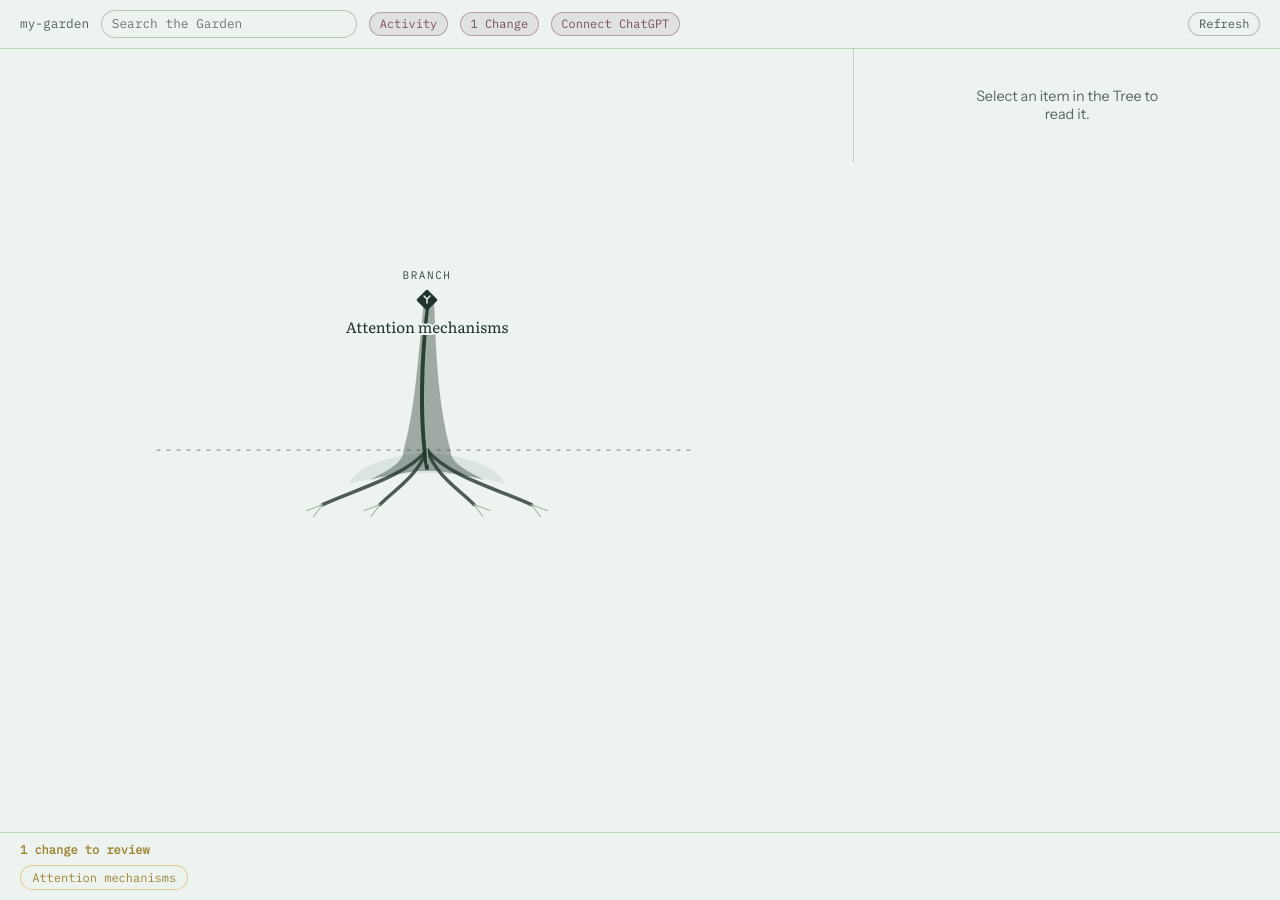
Test: approving a change › lands on the applied item with Undo available, and Undo actually restores the previous file
Expected: the element named "change tray" is shown, x1=0 y1=832 x2=1279 y2=899
Click the button "Attention mechanisms" at (104, 878), box x1=20 y1=865 x2=188 y2=890
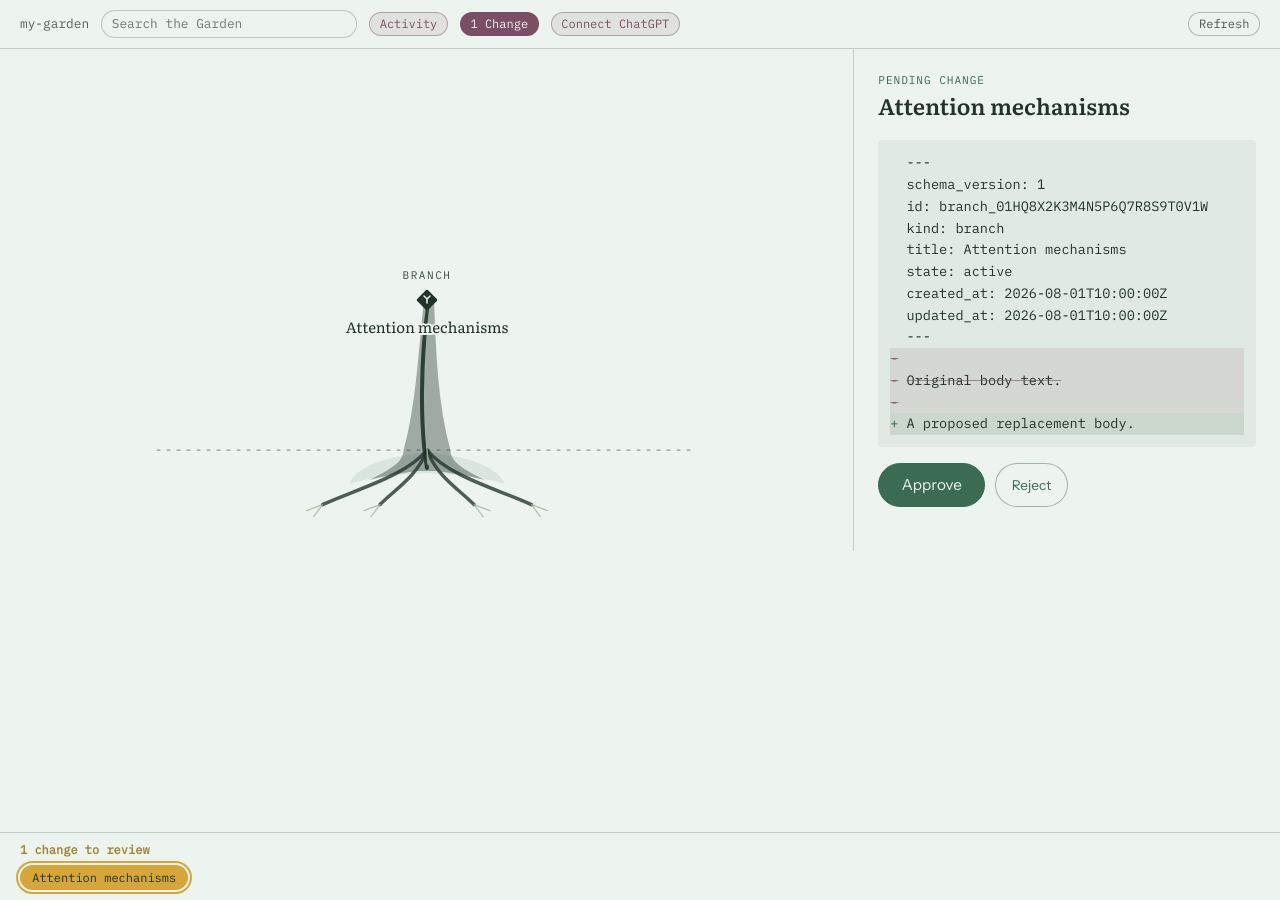
Click the button "Approve" at (932, 485), box x1=878 y1=463 x2=985 y2=506
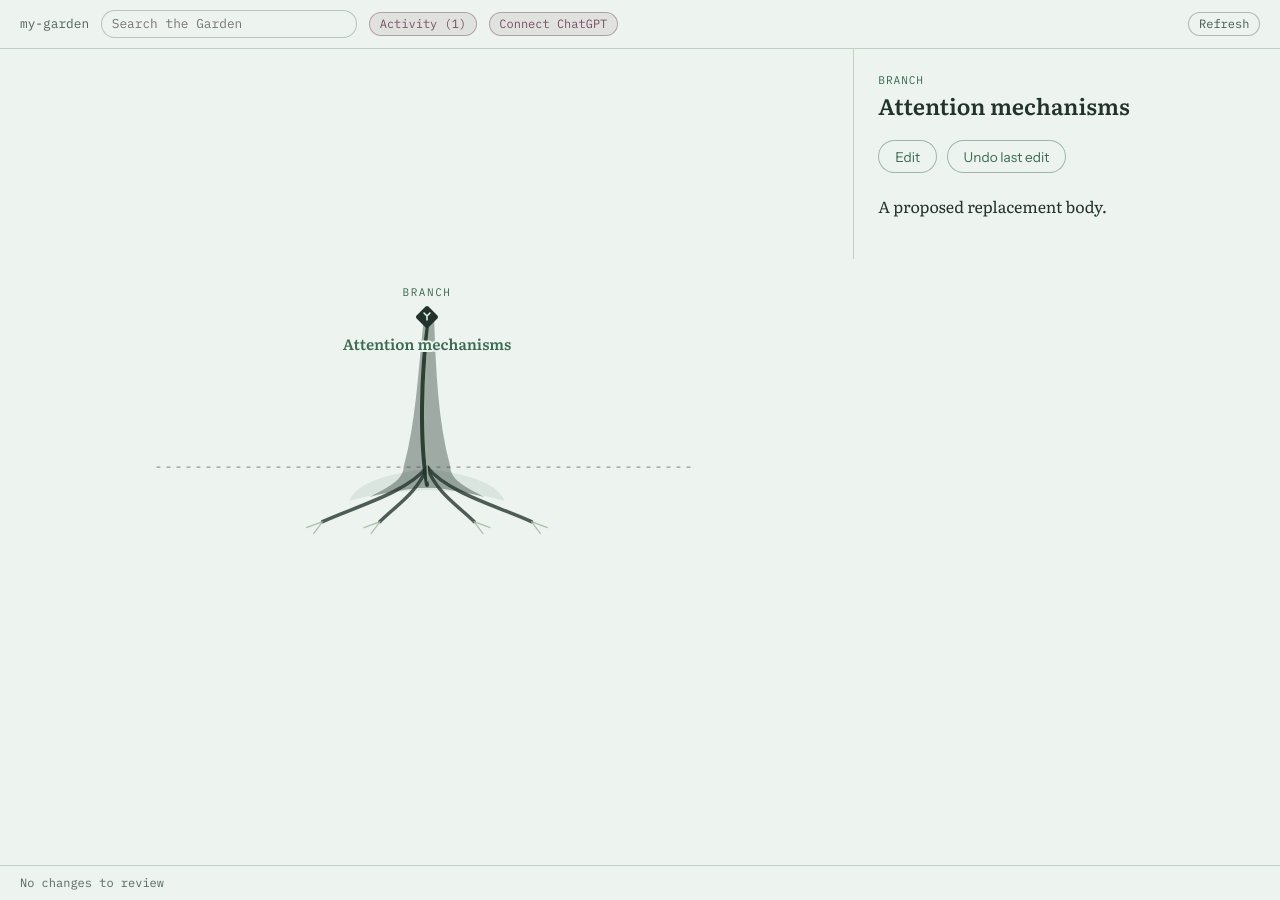
Expected: the text "A proposed replacement body." is shown, x1=878 y1=194 x2=1107 y2=218
Expected: the button "Undo last edit" is shown
Click the button "Undo last edit" at (1006, 157), box x1=947 y1=140 x2=1066 y2=173
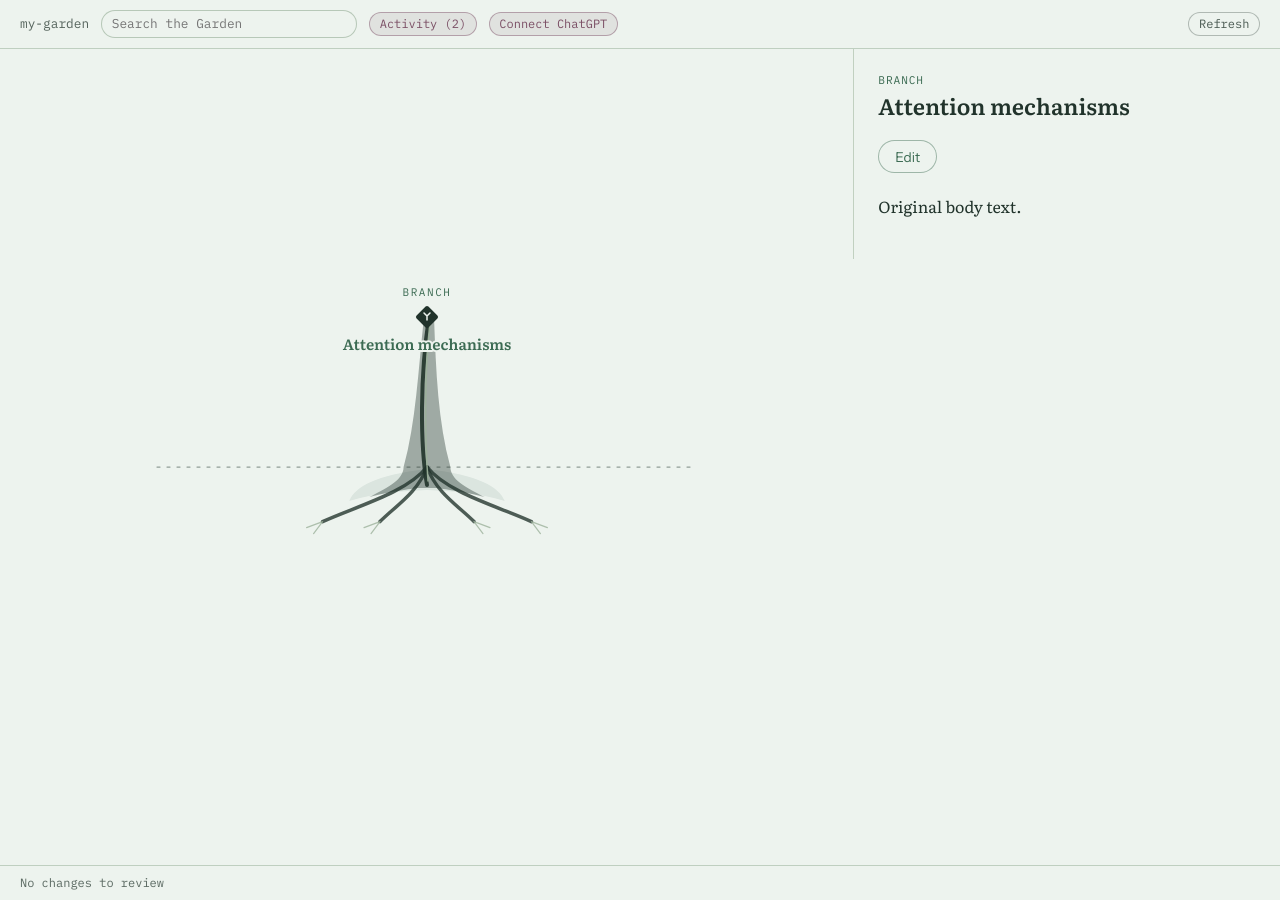
Click the button "Activity (2)" at (423, 24), box x1=369 y1=12 x2=477 y2=36
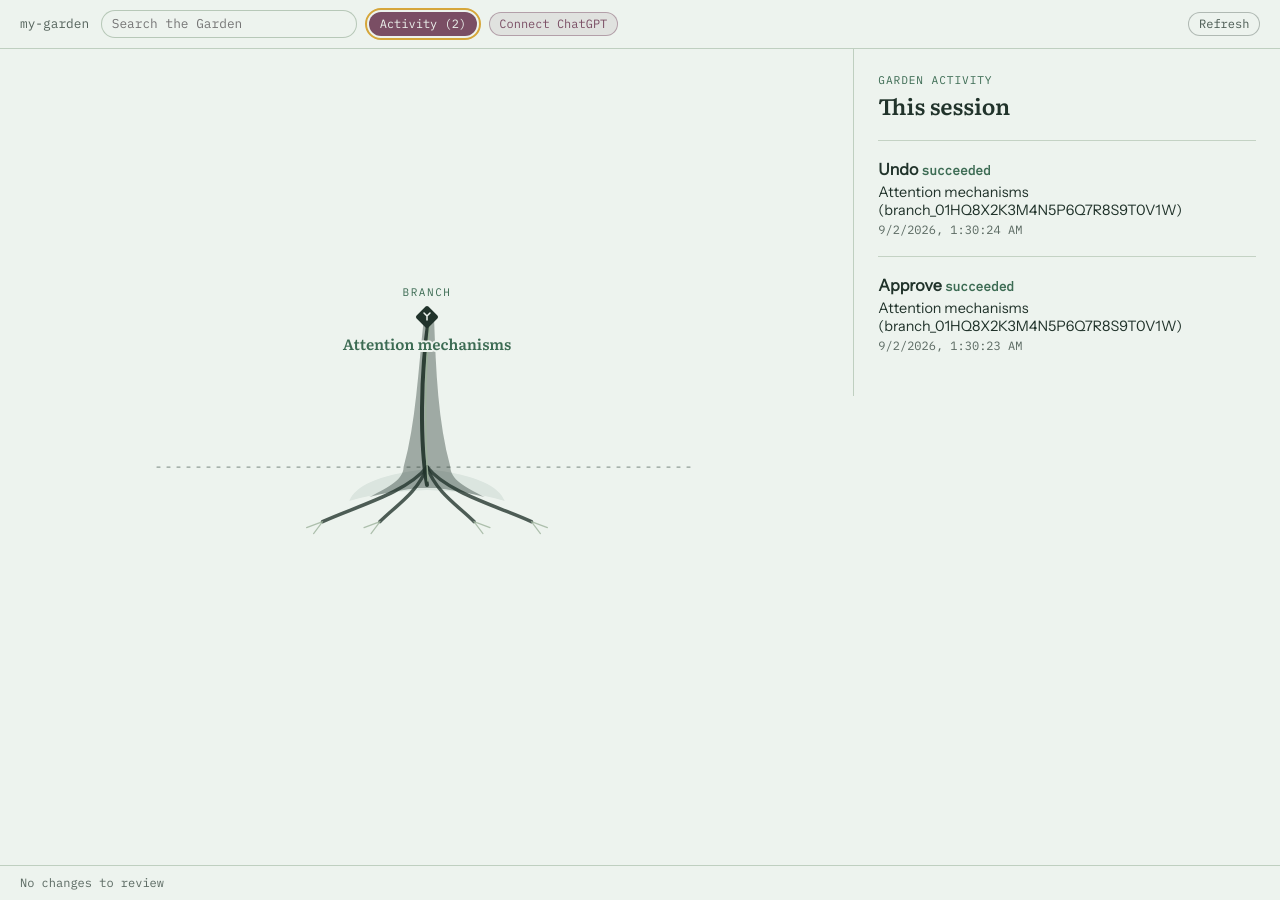
Expected: the text "succeeded" next to "Undo" is shown, x1=922 y1=162 x2=991 y2=179
